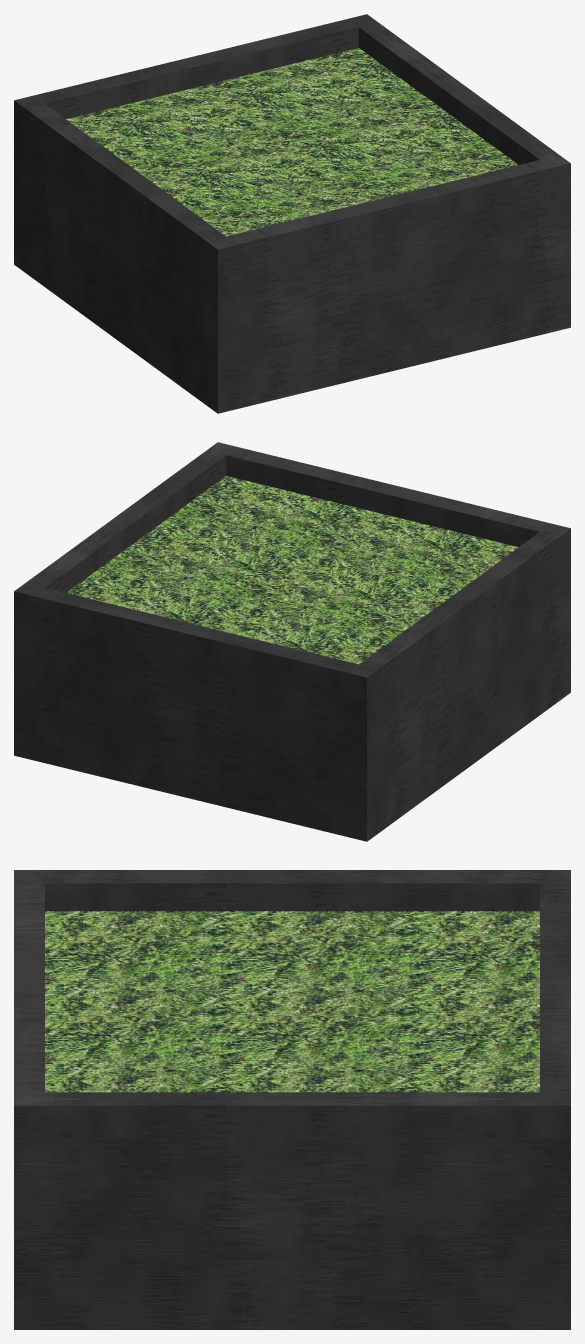
3 views of the same model, one above another, from view 1: azimuth 30°, elevation 25°; view 2: azimuth 150°, elevation 25°; view 3: azimuth 270°, elevation 25° (orthographic). The views are drawn at different scales.
Visible parts, largest first — view 1: Group1; view 2: Group1; view 3: Group1.
Part boxes in pixels (x1=…): Group1: x1=14, y1=14, x2=570, y2=413; Group1: x1=14, y1=442, x2=570, y2=841; Group1: x1=14, y1=870, x2=570, y2=1329.
Size of the model in its own units: 1800 by 800 by 1800.
